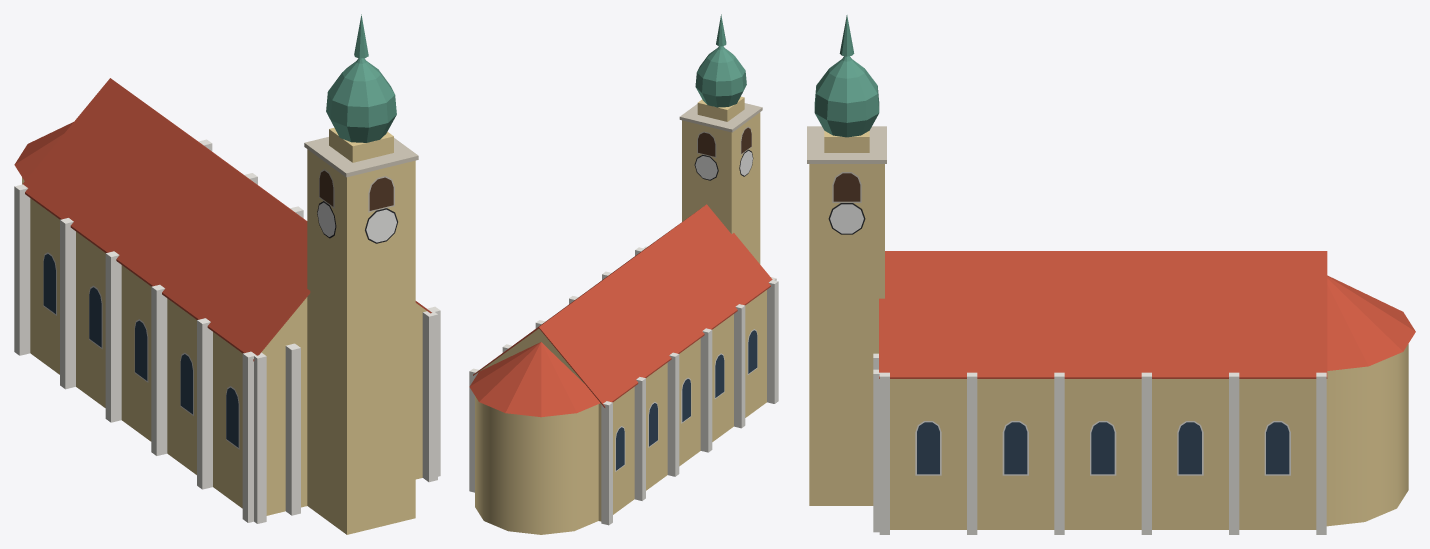
Rendered from eglise_baroque.glb.
3 views of the same model, side by side, from view 1: azimuth 30°, elevation 25°; view 2: azimuth 150°, elevation 25°; view 3: azimuth 270°, elevation 25° (orthographic). The views are drawn at different scales.
Visible parts, largest first — view 1: eglise_baroque; view 2: eglise_baroque; view 3: eglise_baroque.
Boxes of the visible parts, box(x1,y1,x2,y2) form: eglise_baroque: box(14, 14, 440, 534); eglise_baroque: box(469, 14, 778, 534); eglise_baroque: box(807, 15, 1415, 534).
Size of the model in its own units: 14.6 by 36.1 by 41.85.
1 material, 1 textured.
